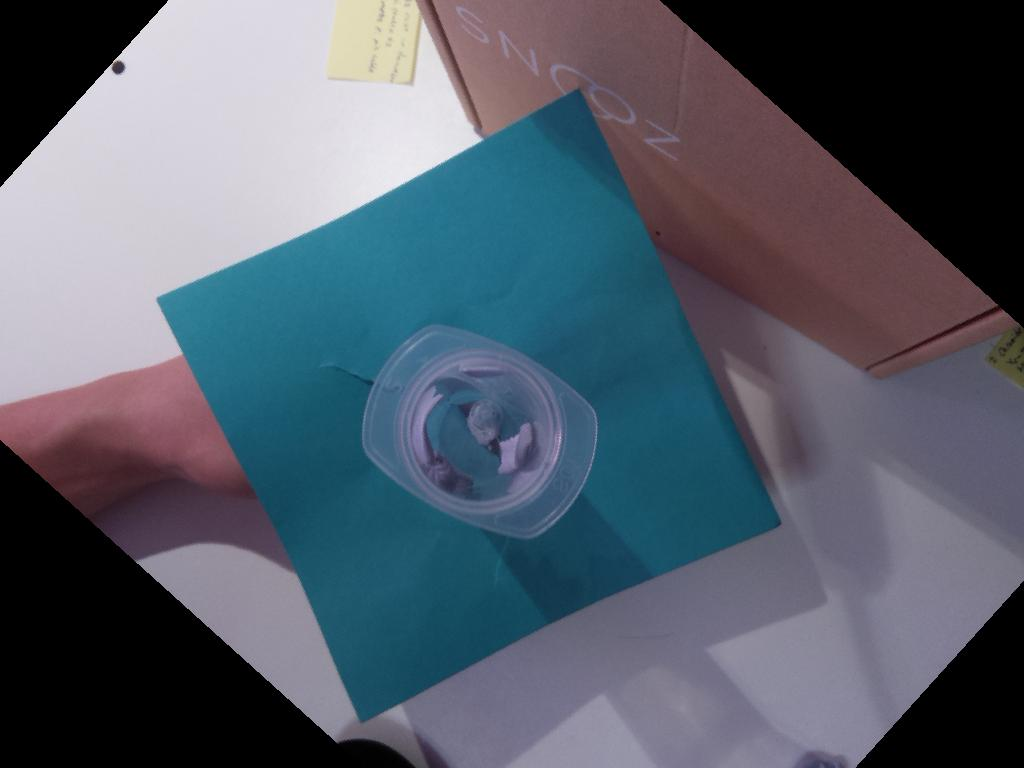dirty: (361, 323, 597, 538)
